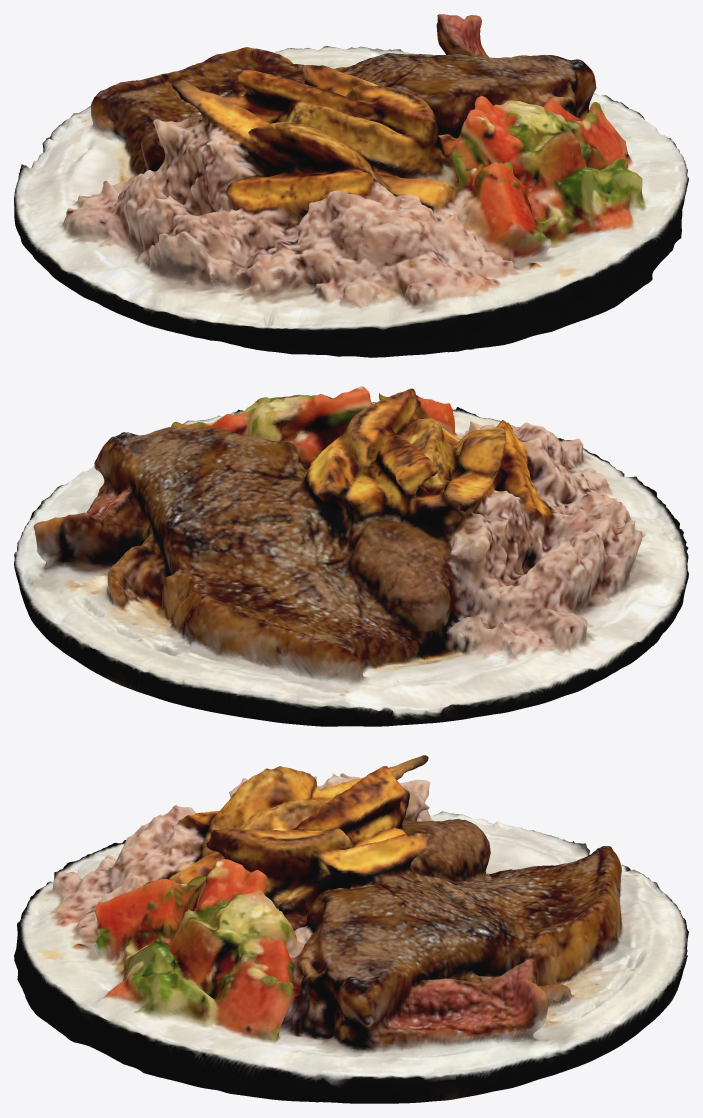
File: steak_and_rice_scaniverse.glb
The picture shows the model from 3 angles, top to bottom: view 1: azimuth 30°, elevation 25°; view 2: azimuth 150°, elevation 25°; view 3: azimuth 270°, elevation 25°; orthographic projection.
Visible parts, largest first — view 1: mesh_main_0; view 2: mesh_main_0; view 3: mesh_main_0.
Part boxes in pixels (x1=…): mesh_main_0: x1=14, y1=14, x2=688, y2=357; mesh_main_0: x1=14, y1=386, x2=688, y2=726; mesh_main_0: x1=14, y1=755, x2=688, y2=1103.
Size of the model in its own units: 0.3183 by 0.0809 by 0.3207.
1 material, 1 textured.
